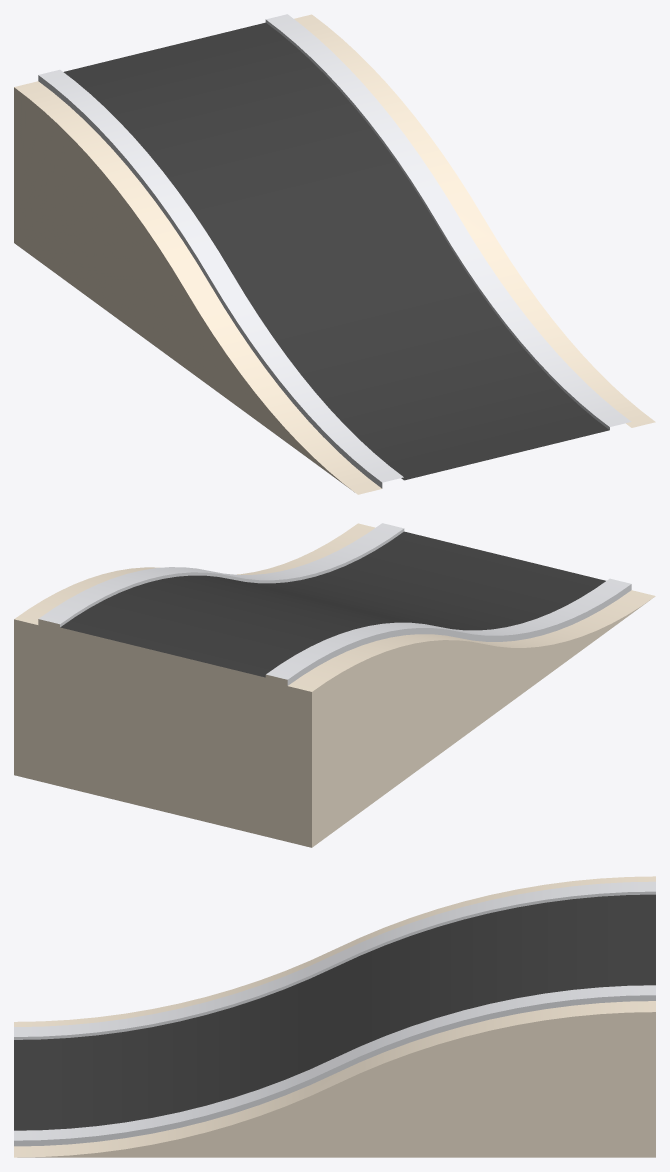
File: roadRampLongCurvedWall.glb
3 views of the same model, one above another, from view 1: azimuth 30°, elevation 25°; view 2: azimuth 150°, elevation 25°; view 3: azimuth 270°, elevation 25° (orthographic). The views are drawn at different scales.
Visible parts, largest first — view 1: roadRampLongCurvedWall(Clone); view 2: roadRampLongCurvedWall(Clone); view 3: roadRampLongCurvedWall(Clone).
Boxes of the visible parts, box(x1,y1,x2,y2) form: roadRampLongCurvedWall(Clone): box(14, 14, 655, 494); roadRampLongCurvedWall(Clone): box(14, 523, 655, 847); roadRampLongCurvedWall(Clone): box(14, 876, 655, 1157).
Size of the model in its own units: 1 by 0.52 by 2.
